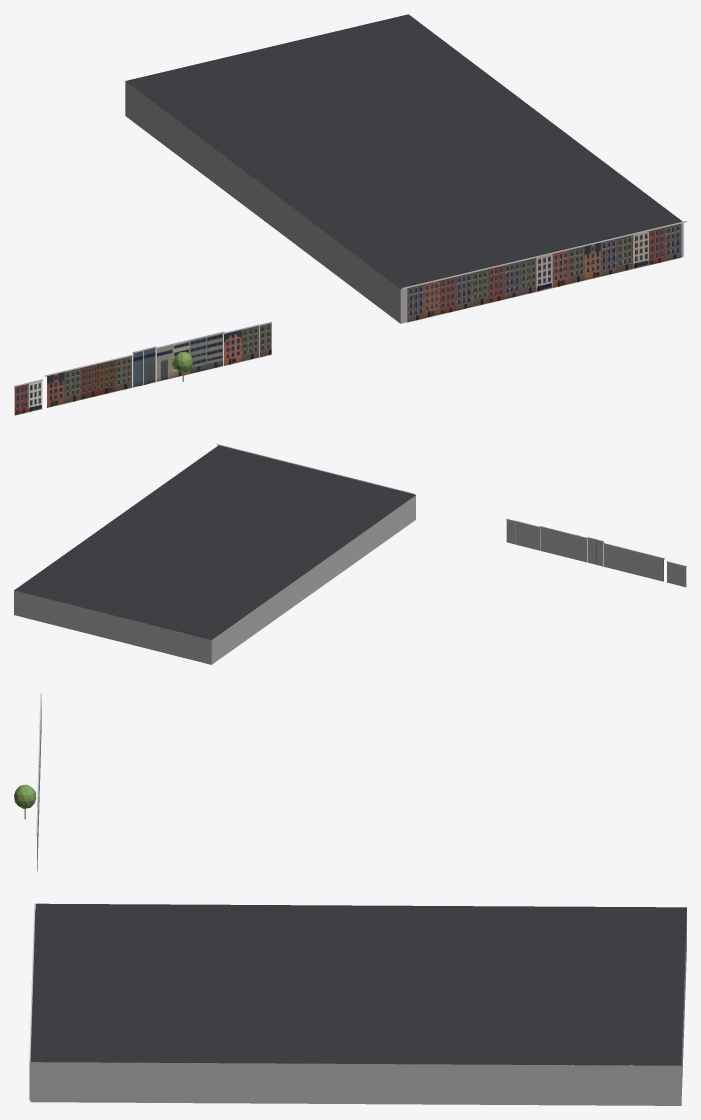
3 renders of one model, top to bottom at view 1: azimuth 30°, elevation 25°; view 2: azimuth 150°, elevation 25°; view 3: azimuth 270°, elevation 25°, orthographic. The views are drawn at different scales.
Visible parts, largest first — view 1: bldg_6008396423_roof, bldg_6008396423, bldg_6008396423_facade1, bldg_6008398321_facade14, bldg_6008398321_facade11, bldg_6008398321_facade10, bldg_6008398321_facade15; view 2: bldg_6008396423_roof, bldg_6008396423, bldg_6008398321_facade14, bldg_6008398321_facade11, bldg_6008398321_facade10, bldg_6008398321_facade15; view 3: bldg_6008396423_roof, bldg_6008396423.
Boxes of the visible parts, x1,y1,x2,y2 form: bldg_6008396423_roof: (125, 14, 682, 288); bldg_6008396423: (125, 81, 683, 323); bldg_6008396423_facade1: (402, 221, 686, 322); bldg_6008398321_facade14: (45, 354, 134, 407); bldg_6008398321_facade11: (155, 331, 224, 381); bldg_6008398321_facade10: (223, 324, 259, 365); bldg_6008398321_facade15: (14, 379, 42, 415); bldg_6008396423_roof: (14, 445, 415, 639); bldg_6008396423: (14, 495, 415, 664); bldg_6008398321_facade14: (603, 543, 665, 581); bldg_6008398321_facade11: (539, 526, 587, 562); bldg_6008398321_facade10: (515, 520, 540, 550); bldg_6008398321_facade15: (666, 561, 686, 587); bldg_6008396423_roof: (30, 903, 686, 1065); bldg_6008396423: (30, 903, 686, 1105).
Size of the model in its own units: 262 by 13.53 by 197.
6 materials, 3 textured.
